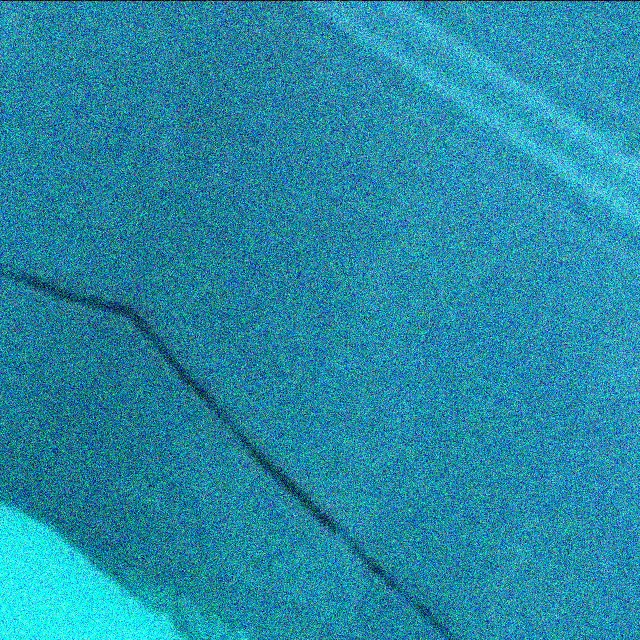SurfaceCrack: (12, 238, 492, 640)
